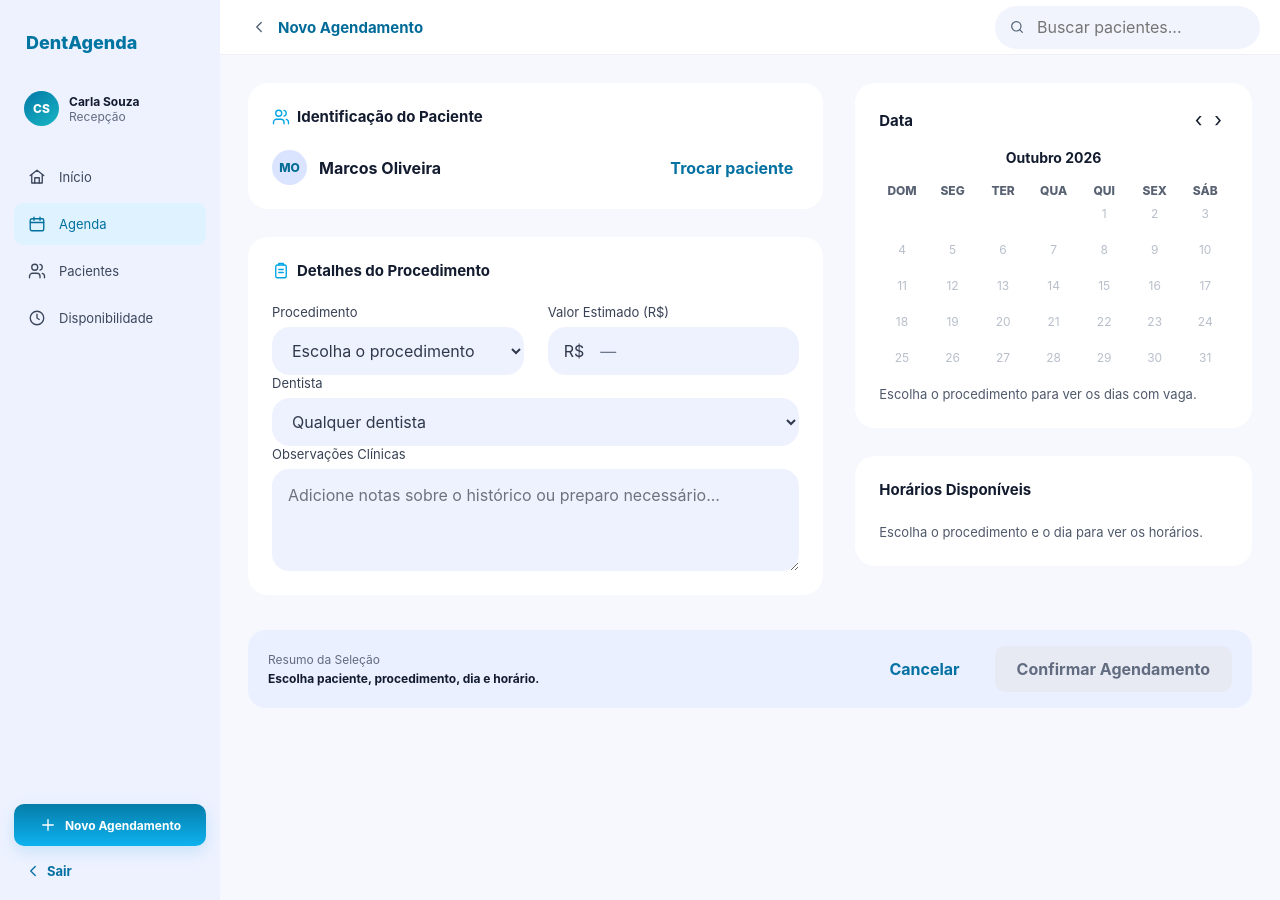
it: Novo Agendamento da recepção (D33) › 409 de horário: mostra a mensagem, limpa o horário e recarrega as vagas
This screenshot has width=1280, height=900.
Expected: the text "Marcos Oliveira" is shown, [319,158,441,178]
Select "Limpeza (60 min)" in the dropdown labelled "Procedimento" at coordinates (398, 351), box [272,327,524,375]
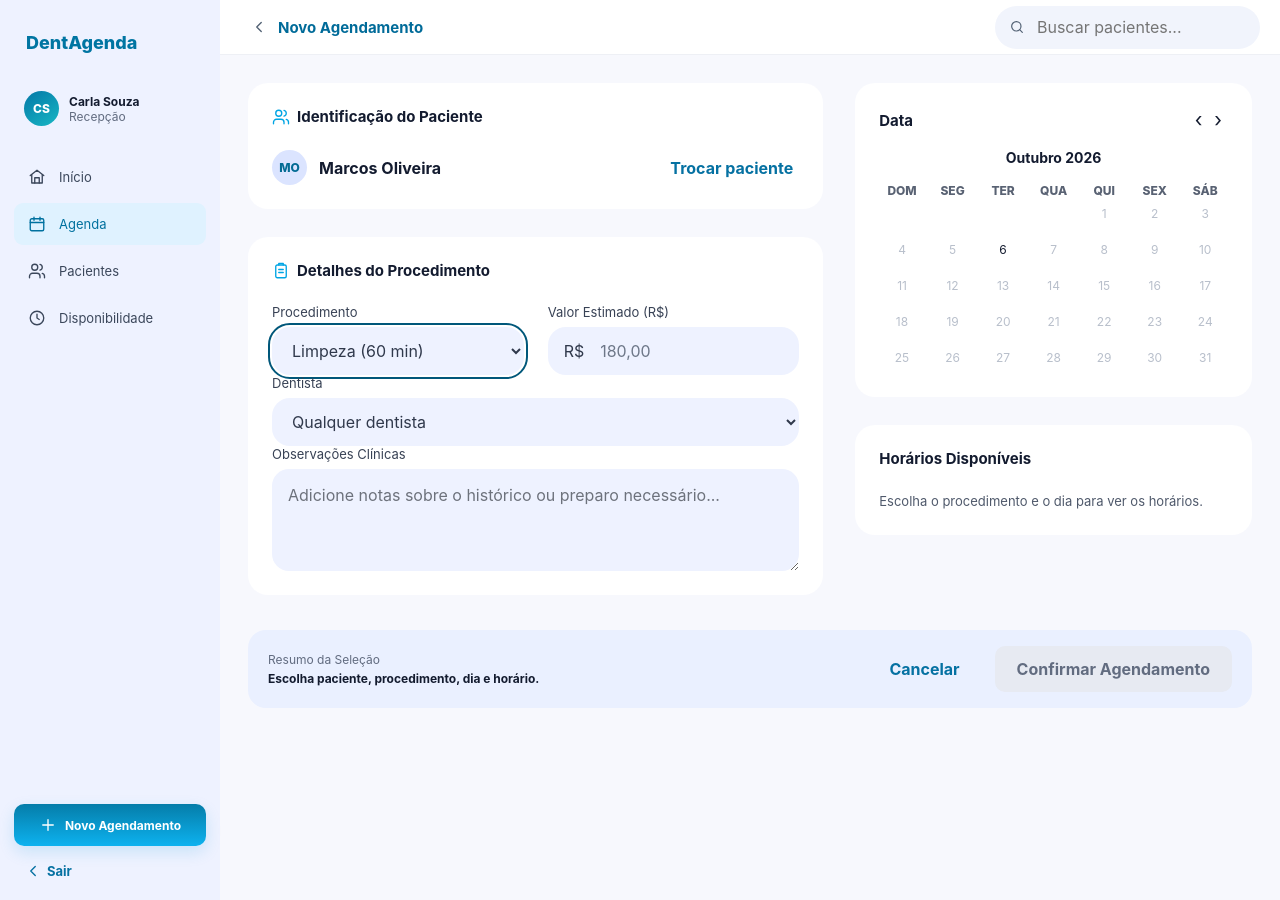
Click the button named "6 de outubro de 2026".
click(1003, 250)  # box [980,234,1026,265]
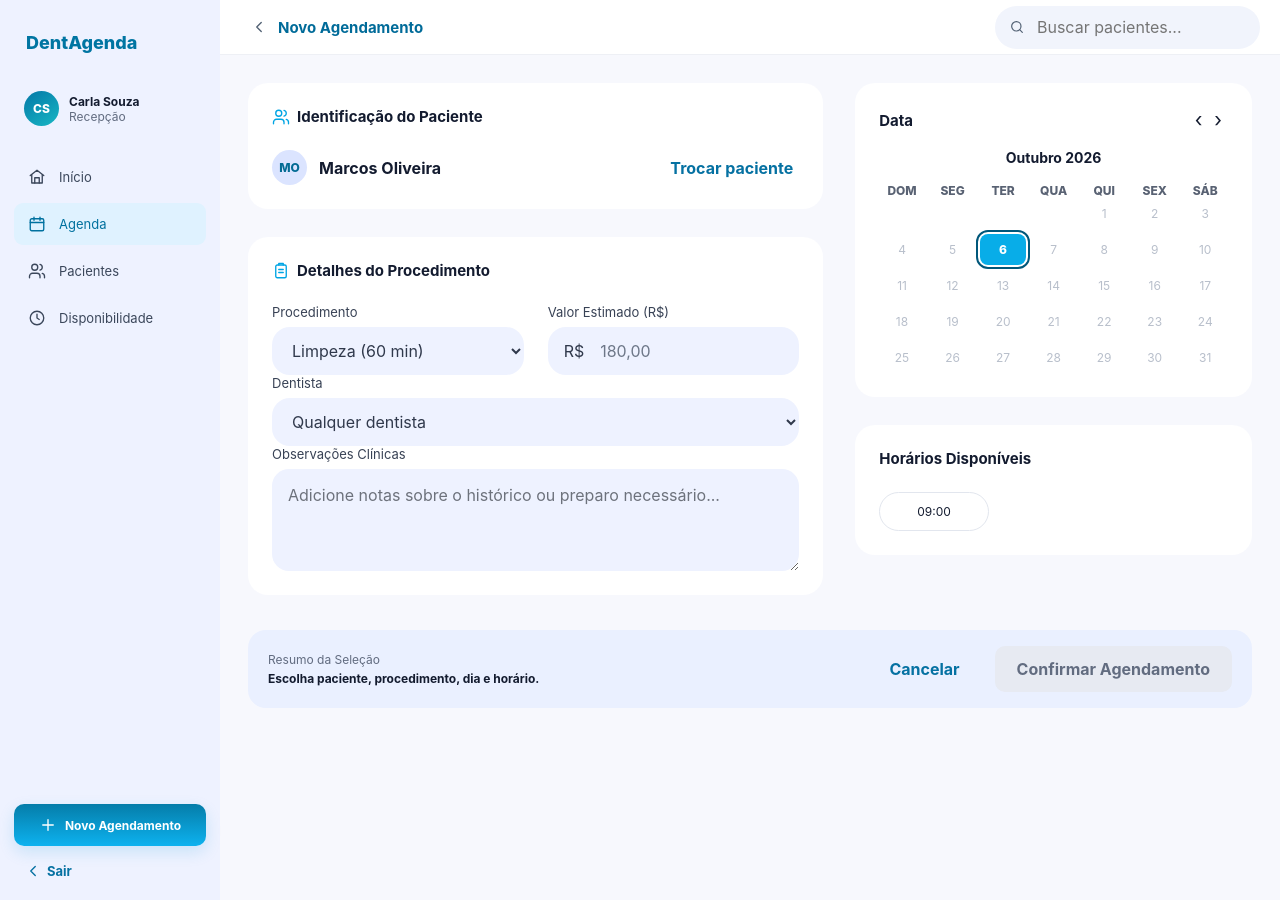
Click the button "09:00".
click(934, 512)  # box [879,492,989,531]
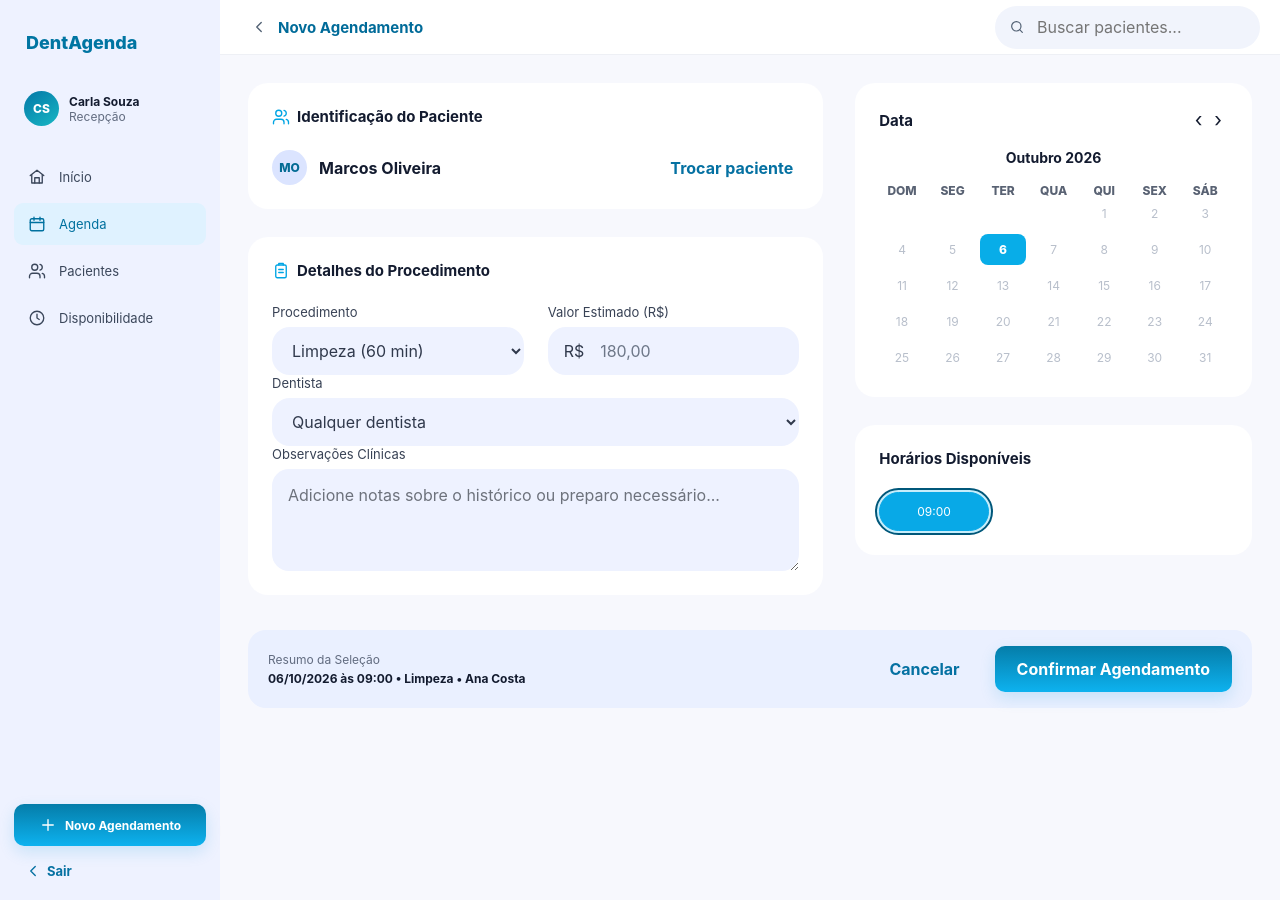
Click the button "Confirmar Agendamento".
click(1113, 669)  # box [995,646,1232,692]
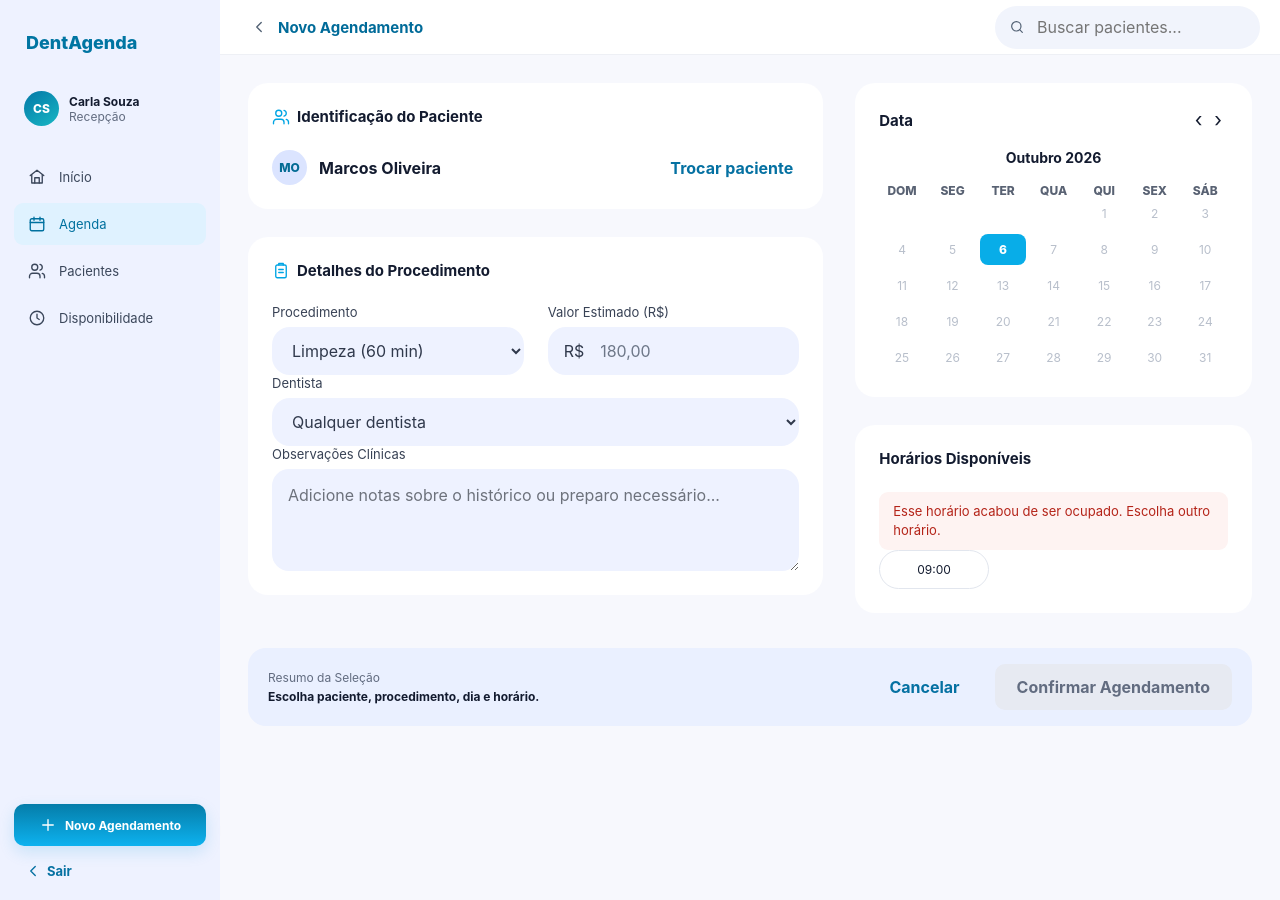
Result: the button "Confirmar Agendamento" is disabled at [995,664,1232,710]
